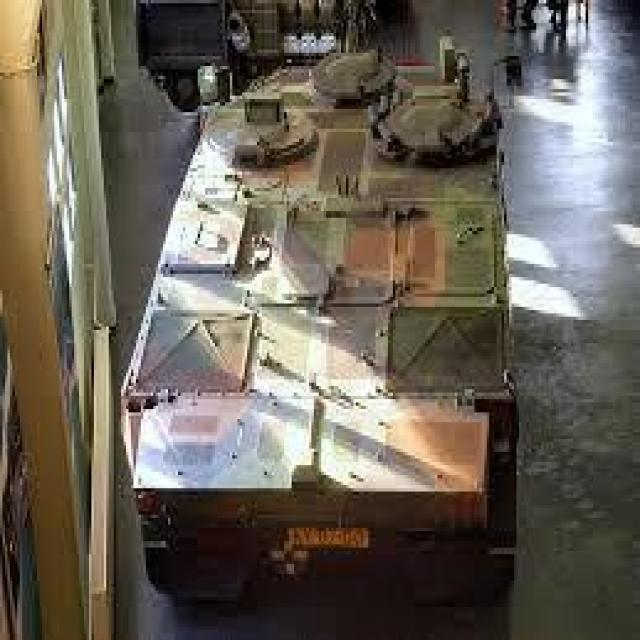MIL_MBT: (119, 54, 521, 595)
